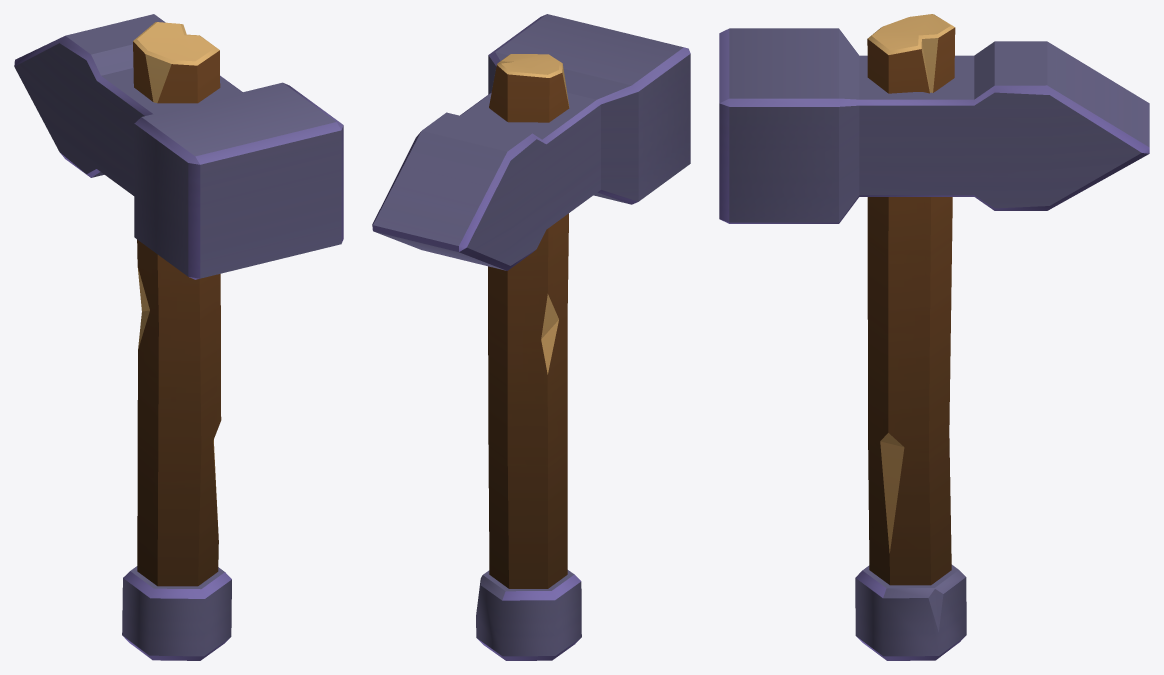
The model's file is Hammer_1_B.glb.
The picture shows the model from 3 angles, left to right: view 1: azimuth 30°, elevation 25°; view 2: azimuth 150°, elevation 25°; view 3: azimuth 270°, elevation 25°; orthographic projection. The views are drawn at different scales.
Visible parts, largest first — view 1: Hammer_1_B; view 2: Hammer_1_B; view 3: Hammer_1_B.
Part boxes in pixels (bbox=[...]): Hammer_1_B: bbox=[14, 14, 343, 660]; Hammer_1_B: bbox=[372, 14, 690, 660]; Hammer_1_B: bbox=[719, 14, 1149, 660].
Bounding box in the file's own units: 0.1313 × 0.4901 × 0.3092.
2 materials, 2 textured.
